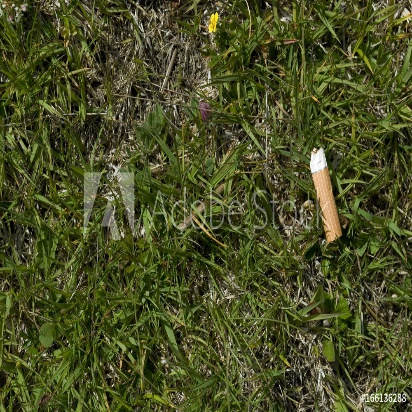cigarette: (303, 141, 348, 246)
